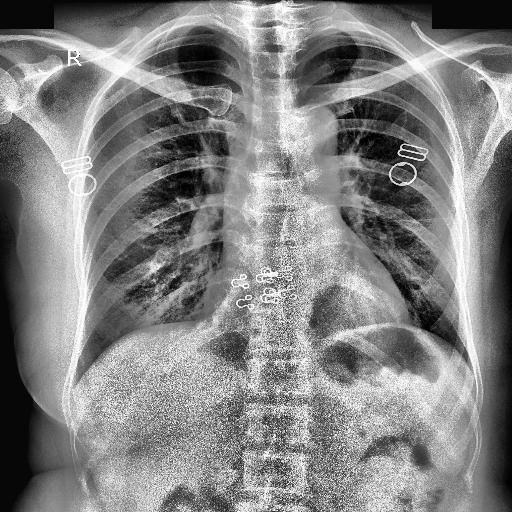0- Aortic enlargement: (286, 105, 340, 168), (281, 105, 338, 159), (296, 106, 338, 142)
3- Cardiomegaly: (202, 272, 412, 336), (200, 286, 412, 348)
